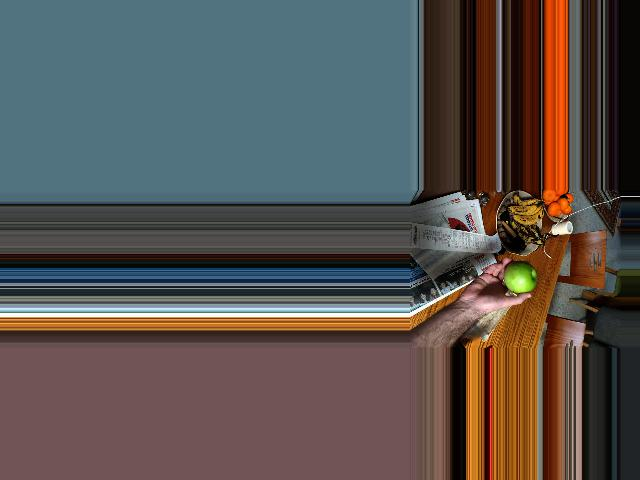apple: (505, 260, 538, 293)
